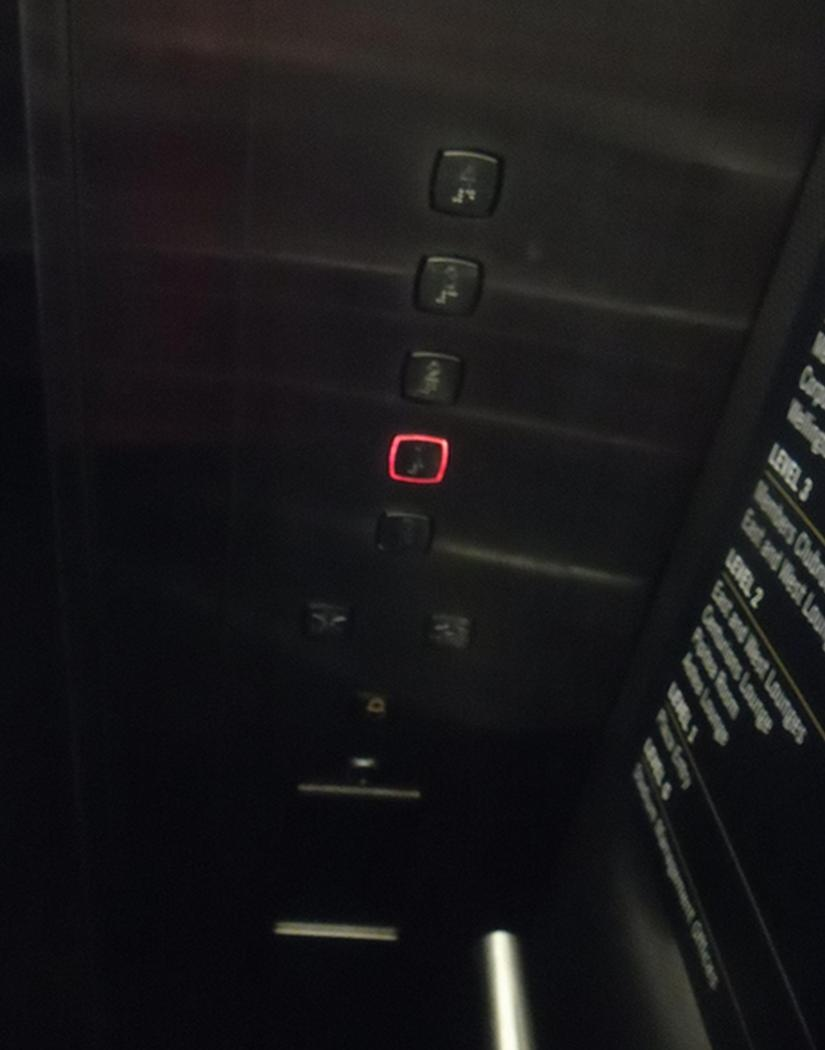2: (402, 351, 461, 404)
3: (415, 255, 482, 317)
4: (430, 149, 502, 221)
alarm: (353, 688, 395, 724)
blur: (387, 434, 449, 484), (375, 509, 433, 560), (426, 612, 475, 655)
close: (302, 601, 353, 645)
